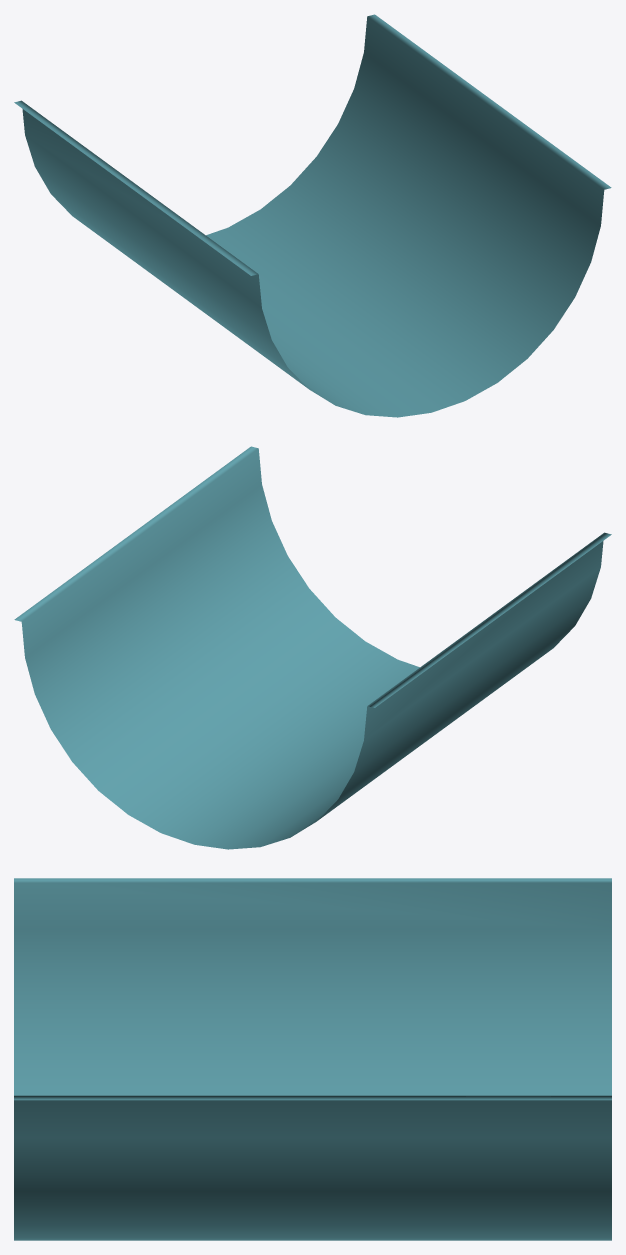
Rendered from Platform_new.fbx.
The picture shows the model from 3 angles, top to bottom: view 1: azimuth 30°, elevation 25°; view 2: azimuth 150°, elevation 25°; view 3: azimuth 270°, elevation 25°; orthographic projection. The views are drawn at different scales.
Parts seen in each view (by area): view 1: Platform_model; view 2: Platform_model; view 3: Platform_model.
Boxes of the visible parts, x1,y1,x2,y2 form: Platform_model: [14, 14, 611, 417]; Platform_model: [14, 446, 611, 849]; Platform_model: [14, 878, 611, 1240].
Bounding box in the file's own units: 104443 × 50000 × 118820.
